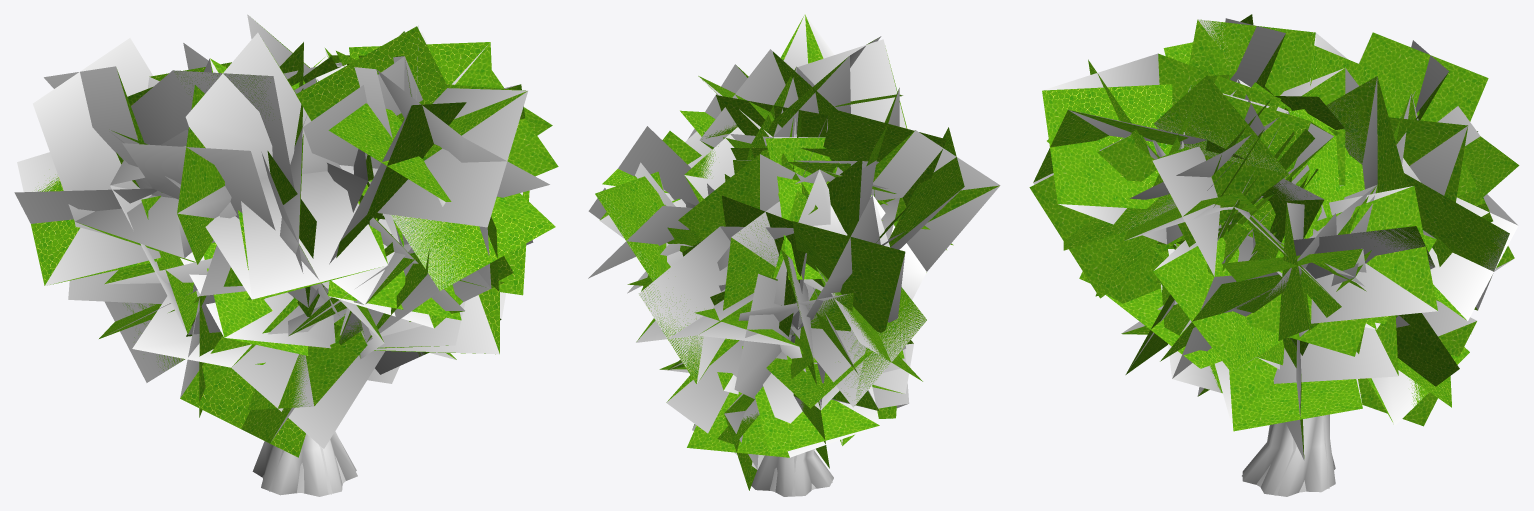
The model's file is tree.fbx.
3 views of the same model, side by side, from view 1: azimuth 30°, elevation 25°; view 2: azimuth 150°, elevation 25°; view 3: azimuth 270°, elevation 25° (orthographic). The views are drawn at different scales.
Parts seen in each view (by area): view 1: Plane, Plane_044; view 2: Plane, Plane_044; view 3: Plane_044, Plane.
Part boxes in pixels (<box>): Plane: <box>14,14,549,494</box>; Plane_044: <box>31,25,558,496</box>; Plane: <box>588,14,1000,496</box>; Plane_044: <box>595,14,999,496</box>; Plane_044: <box>1029,14,1519,496</box>; Plane: <box>1033,18,1518,495</box>.
Size of the model in its own units: 8.06 by 7.84 by 8.05.
